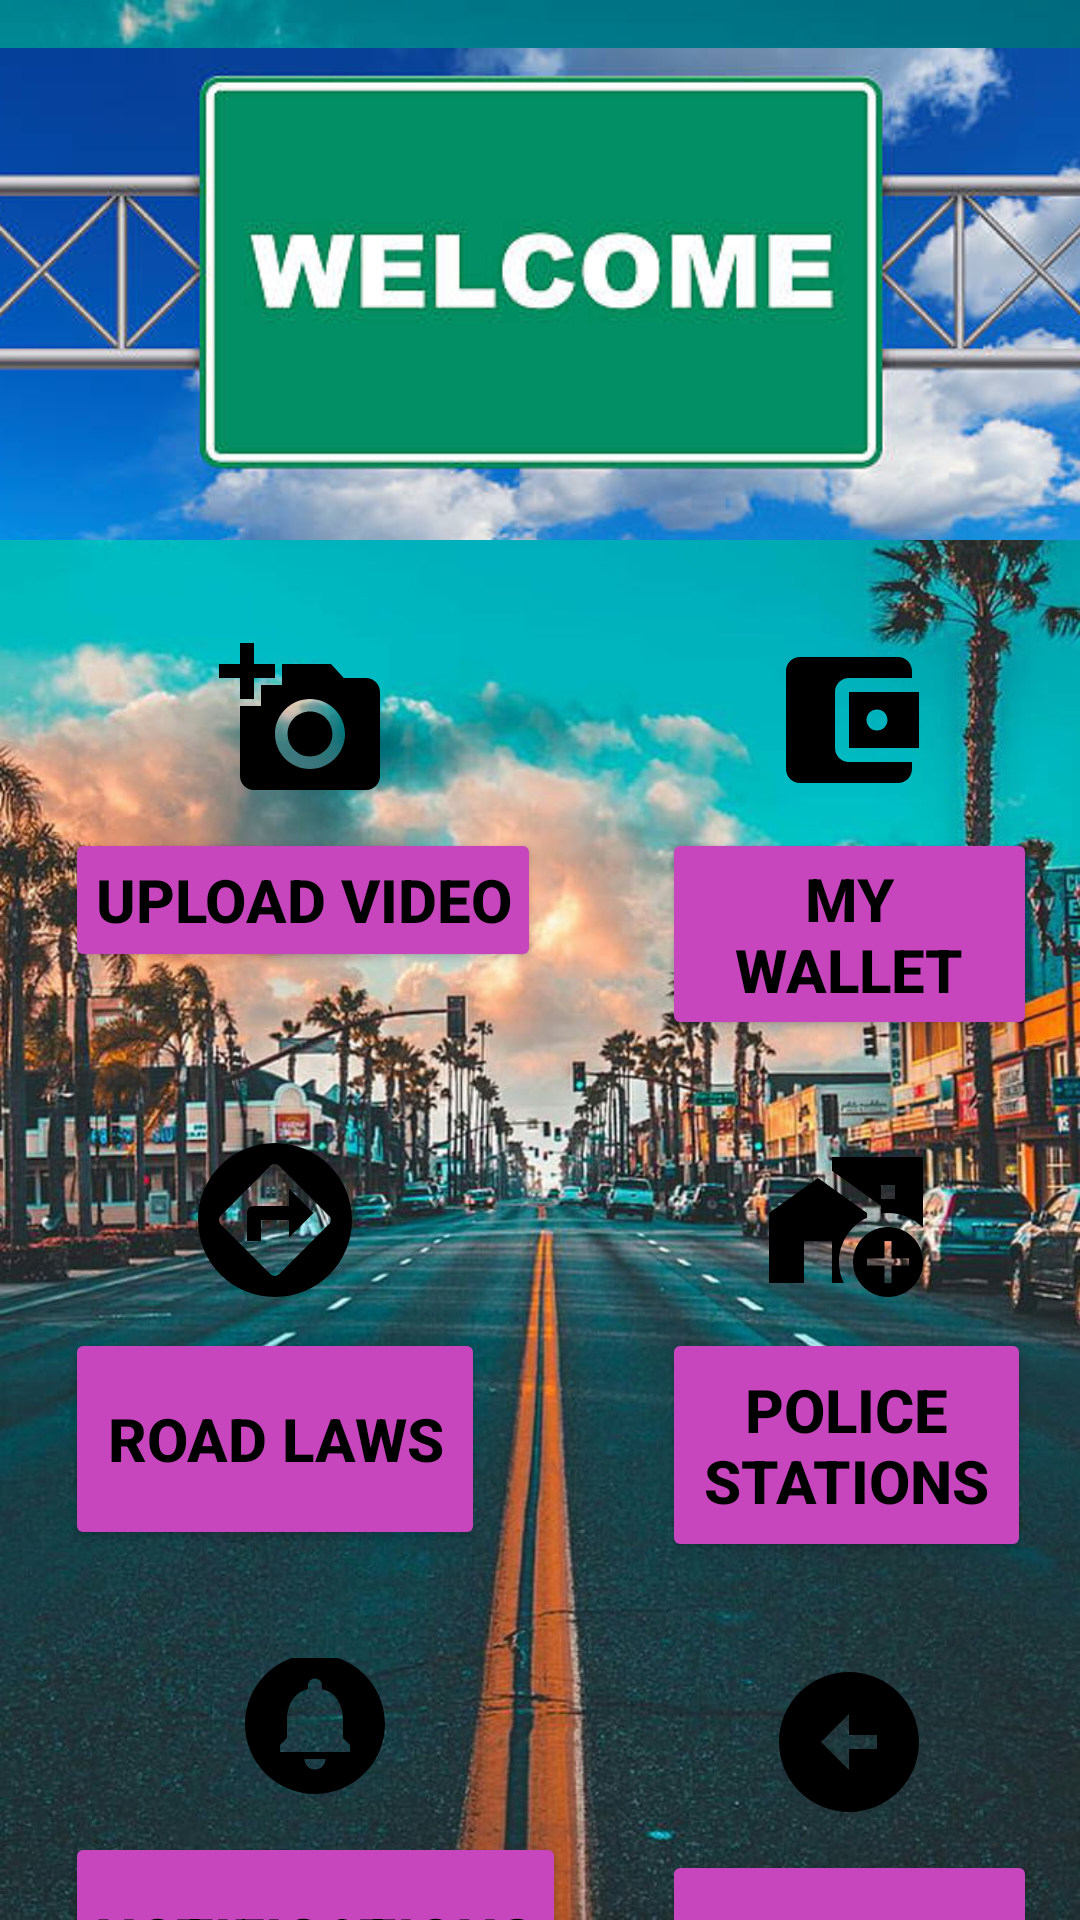

Icons on this 1080w x 1920h Android screen, each with the point to tap as (x=x, y=y):
camera: (x=303, y=720)
